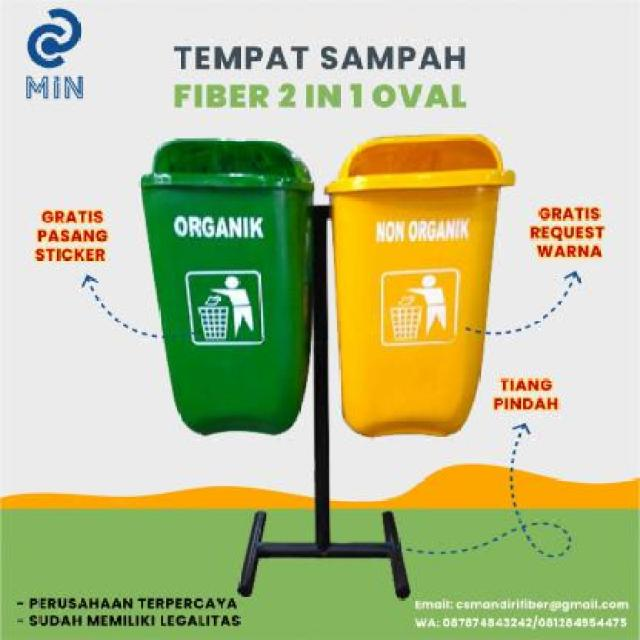garbage container: (321, 132, 521, 453), (132, 131, 320, 444)
